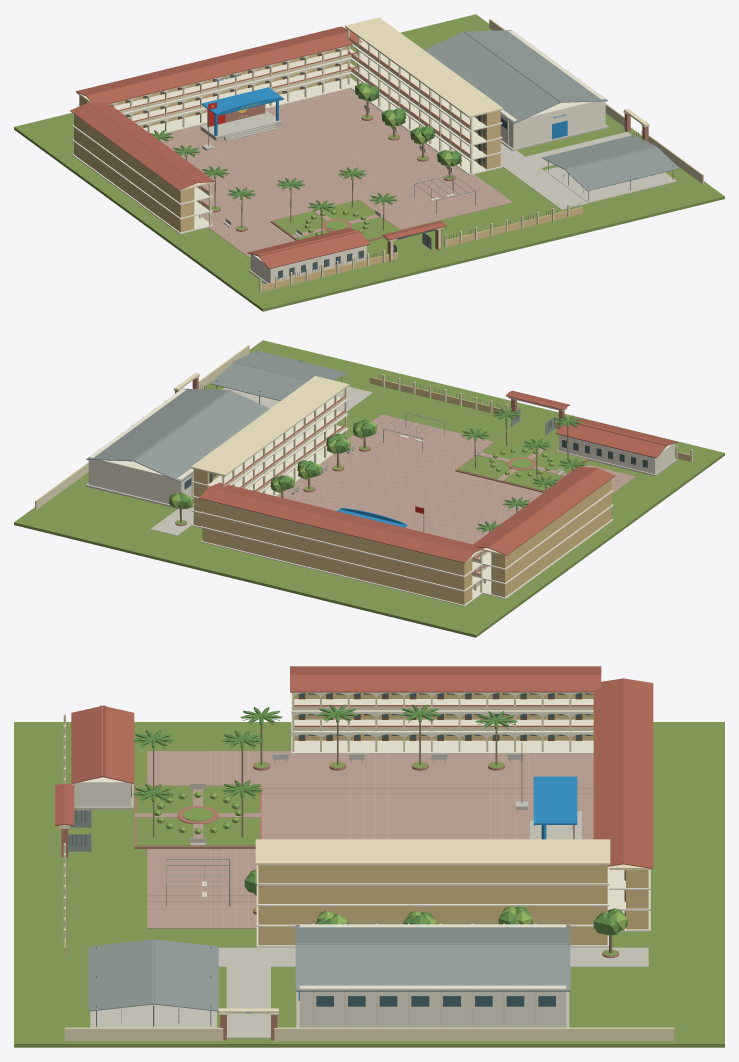
Rendered from an-duong-school-v1.glb.
3 views of the same model, one above another, from view 1: azimuth 30°, elevation 25°; view 2: azimuth 150°, elevation 25°; view 3: azimuth 270°, elevation 25° (orthographic). The views are drawn at different scales.
Parts seen in each view (by area): view 1: Campus_grass, Campus_tile, Campus_trim, Campus_roof, Campus_metal, Campus_cream, Campus_wall, Campus_stone, Campus_leaf, Campus_blue, Campus_brick, Campus_leaflight (+3 smaller); view 2: Campus_grass, Campus_tile, Campus_wall, Campus_roof, Campus_metal, Campus_trim, Campus_cream, Campus_leaf, Campus_stone, Campus_leaflight, Campus_brick, Campus_grout; view 3: Campus_grass, Campus_tile, Campus_metal, Campus_trim, Campus_roof, Campus_wall, Campus_cream, Campus_stone, Campus_leaf, Campus_window, Campus_grout, Campus_blue (+4 smaller).
Part boxes in pixels (box(x1,y1,x2,y2)): Campus_grass: box(14, 14, 724, 311); Campus_tile: box(157, 88, 512, 258); Campus_trim: box(72, 29, 605, 283); Campus_roof: box(70, 26, 469, 268); Campus_metal: box(208, 30, 679, 284); Campus_cream: box(76, 17, 703, 292); Campus_wall: box(74, 46, 582, 291); Campus_stone: box(200, 104, 676, 285); Campus_leaf: box(149, 82, 461, 213); Campus_blue: box(201, 74, 636, 180); Campus_brick: box(207, 104, 648, 261); Campus_leaflight: box(304, 85, 453, 235); Campus_grass: box(14, 340, 724, 637); Campus_tile: box(277, 414, 635, 589); Campus_wall: box(193, 376, 690, 604); Campus_roof: box(199, 390, 678, 574); Campus_metal: box(86, 350, 690, 532); Campus_trim: box(88, 388, 674, 606); Campus_cream: box(35, 345, 692, 592); Campus_leaf: box(169, 408, 587, 533); Campus_stone: box(85, 386, 676, 535); Campus_leaflight: box(169, 421, 554, 509); Campus_brick: box(175, 377, 588, 525); Campus_grout: box(287, 416, 635, 588); Campus_grass: box(14, 722, 724, 1047); Campus_tile: box(134, 751, 593, 928); Campus_metal: box(64, 718, 570, 1036); Campus_trim: box(74, 693, 650, 1027); Campus_roof: box(55, 666, 653, 868); Campus_wall: box(64, 693, 648, 956); Campus_cream: box(59, 692, 674, 1041); Campus_stone: box(72, 754, 648, 1038); Campus_leaf: box(133, 704, 622, 935); Campus_window: box(299, 693, 624, 1006); Campus_grout: box(147, 751, 593, 927); Campus_blue: box(245, 776, 577, 1012).
Bounding box in the file's own units: 120 × 15.45 × 112.
